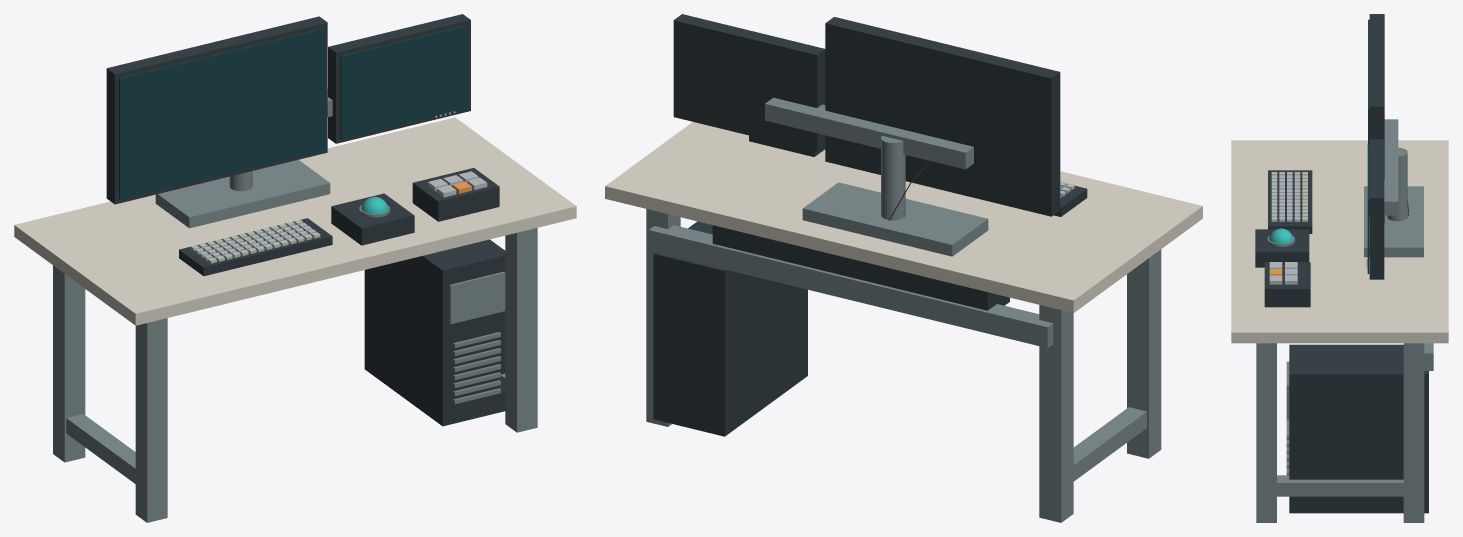
Rendered from connectomics-console.glb.
3 renders of one model, left to right at view 1: azimuth 30°, elevation 25°; view 2: azimuth 150°, elevation 25°; view 3: azimuth 270°, elevation 25°, orthographic. The views are drawn at different scales.
Visible parts, largest first — view 1: desk_top, primary_display_panel, compute_tower, side_display_panel, front_leg.001, front_leg, dual_stand_foot, left_display, rear_leg, right_display, trackball_mount, keyboard_static_keys (+4 smaller); view 2: desk_top, left_display, compute_tower, right_display, rear_crossbar, rear_leg, dual_stand_foot, front_leg, central_cable_tray, monitor_shared_arm, leg_tie, rear_leg.001 (+1 smaller); view 3: desk_top, compute_tower, rear_leg.001, front_leg.001, dual_stand_foot, leg_tie.001, right_display, left_display, annotation_pad, keyboard_static_keys, trackball_mount, keyboard_shell (+6 smaller).
Part boxes in pixels (left/top/right/bottom): desk_top: left=14, top=117, right=576, bottom=325; primary_display_panel: left=119, top=28, right=324, bottom=199; compute_tower: left=364, top=239, right=505, bottom=426; side_display_panel: left=340, top=25, right=467, bottom=139; front_leg.001: left=505, top=228, right=537, bottom=432; front_leg: left=135, top=318, right=167, bottom=522; dual_stand_foot: left=155, top=160, right=330, bottom=228; left_display: left=106, top=16, right=327, bottom=204; rear_leg: left=53, top=265, right=85, bottom=462; right_display: left=328, top=14, right=470, bottom=143; trackball_mount: left=331, top=193, right=414, bottom=245; keyboard_static_keys: left=190, top=220, right=320, bottom=263; desk_top: left=605, top=122, right=1202, bottom=312; left_display: left=825, top=17, right=1060, bottom=216; compute_tower: left=653, top=221, right=807, bottom=436; right_display: left=673, top=14, right=825, bottom=151; rear_crossbar: left=648, top=225, right=1053, bottom=348; rear_leg: left=1039, top=305, right=1073, bottom=522; dual_stand_foot: left=802, top=182, right=988, bottom=256; front_leg: left=1127, top=249, right=1161, bottom=458; central_cable_tray: left=712, top=225, right=1009, bottom=310; monitor_shared_arm: left=765, top=97, right=973, bottom=169; leg_tie: left=1073, top=407, right=1146, bottom=481; rear_leg.001: left=646, top=209, right=680, bottom=426; desk_top: left=1231, top=140, right=1448, bottom=343; compute_tower: left=1289, top=344, right=1428, bottom=513; rear_leg.001: left=1403, top=343, right=1424, bottom=522; front_leg.001: left=1256, top=343, right=1276, bottom=522; dual_stand_foot: left=1364, top=186, right=1423, bottom=257; leg_tie.001: left=1277, top=475, right=1403, bottom=496; right_display: left=1369, top=139, right=1384, bottom=279; left_display: left=1369, top=14, right=1384, bottom=222; annotation_pad: left=1264, top=262, right=1310, bottom=307; keyboard_static_keys: left=1271, top=172, right=1307, bottom=221; trackball_mount: left=1255, top=229, right=1309, bottom=267; keyboard_shell: left=1268, top=170, right=1312, bottom=233.
Size of the model in its own units: 1.55 by 1.32 by 0.74.
